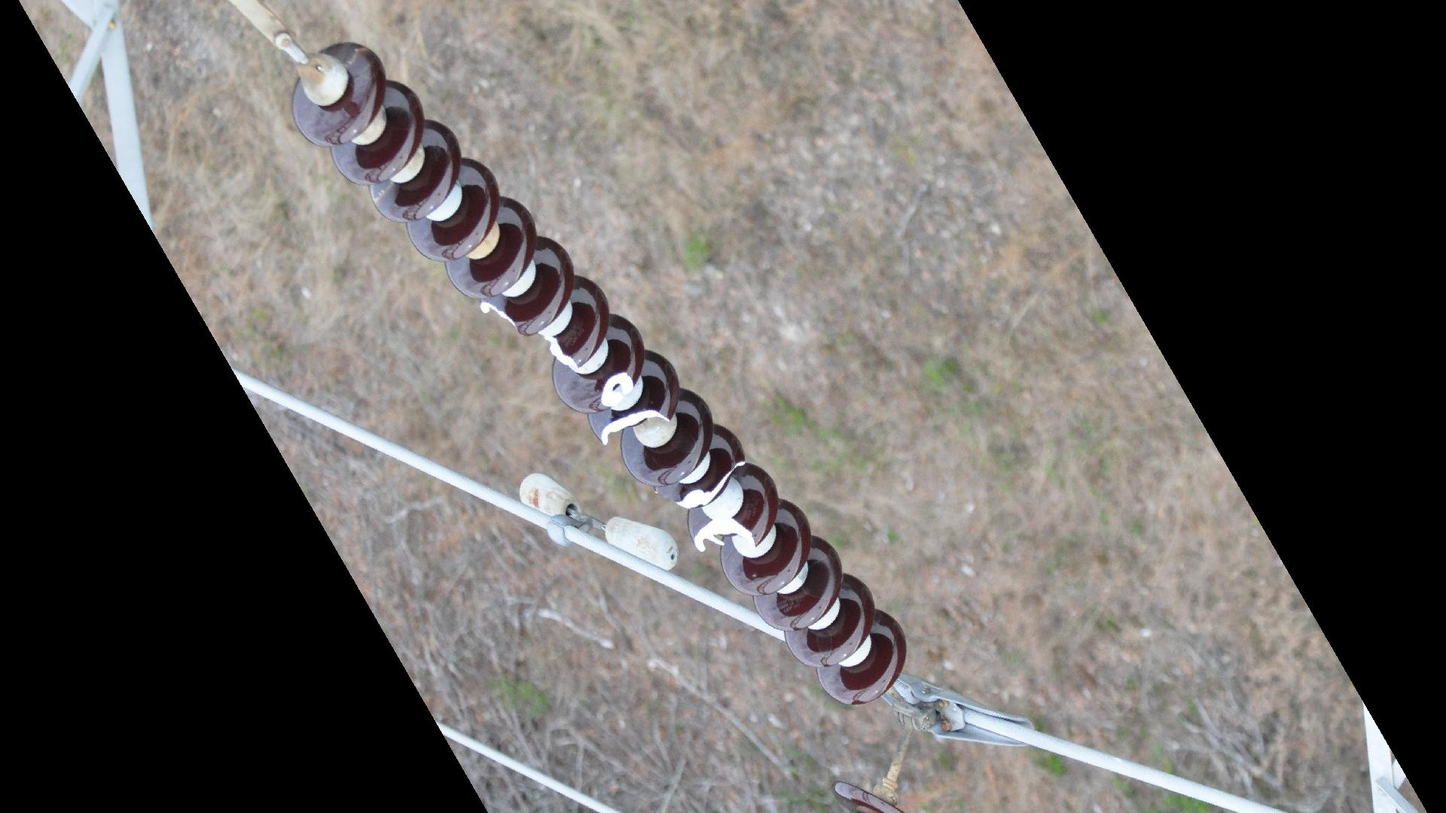insulator: (284, 37, 915, 722)
insulator_breakage: (669, 455, 749, 513), (595, 404, 673, 448), (689, 513, 761, 557), (474, 296, 532, 340), (539, 330, 584, 375), (594, 367, 638, 412)
